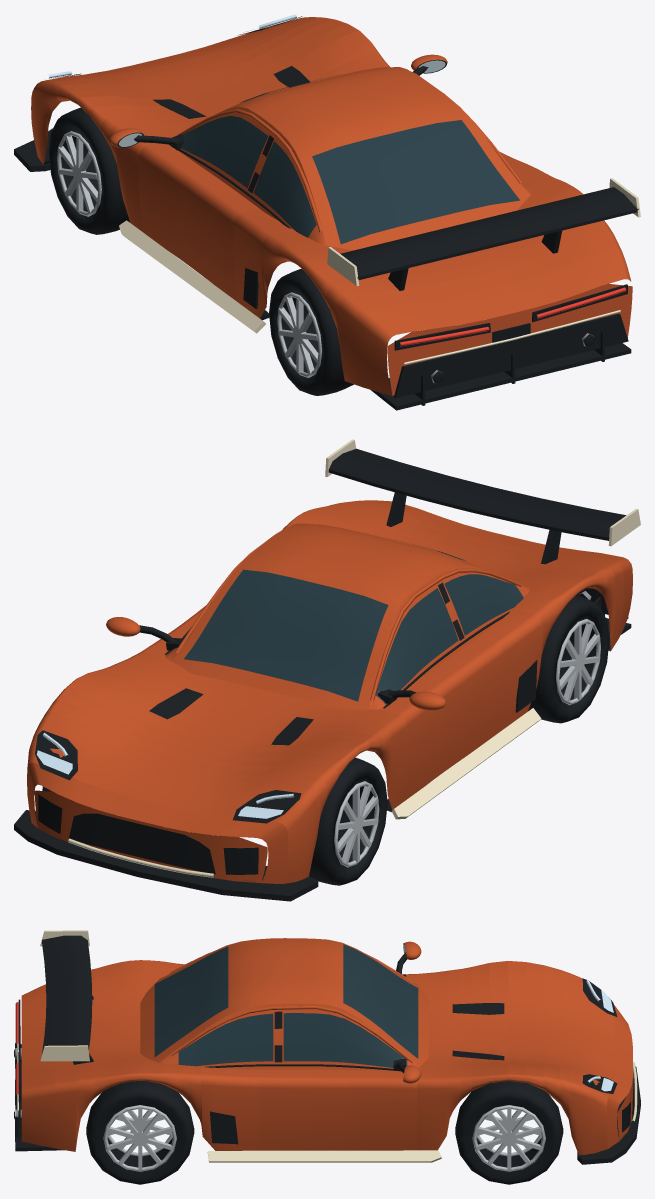
3 renders of one model, top to bottom at view 1: azimuth 30°, elevation 25°; view 2: azimuth 150°, elevation 25°; view 3: azimuth 270°, elevation 25°, orthographic. The views are drawn at different scales.
Visible parts, largest first — view 1: body_paint, body_carbon, body_glass, wheel_carbon (×2), wheel_rim (×2), body_accent, body_rearLights; view 2: body_paint, body_carbon, body_glass, wheel_carbon (×2), wheel_rim (×2), body_accent, body_lights; view 3: body_paint, body_glass, wheel_carbon (×2), body_carbon, wheel_rim (×2), body_accent, body_lights.
Boxes of the visible parts, x1,y1,x2,y2 form: body_paint: (31,17,632,395); body_carbon: (14,16,638,410); body_glass: (180,74,519,244); wheel_carbon (×2): (48,107,353,395); wheel_rim (×2): (57,131,321,377); body_accent: (119,178,640,364); body_rearLights: (400,287,626,346); body_paint: (27,500,632,884); body_carbon: (14,448,631,901); body_glass: (169,544,523,704); wheel_carbon (×2): (309,595,609,885); wheel_rim (×2): (334,619,600,867); body_accent: (68,439,640,877); body_lights: (36,733,293,818); body_paint: (21,938,632,1155); body_glass: (154,944,418,1067); wheel_carbon (×2): (86,1081,563,1184); body_carbon: (14,935,640,1164); wheel_rim (×2): (103,1105,545,1171); body_accent: (17,930,637,1162); body_lights: (586,980,613,1091).
Size of the model in its own units: 1.23 by 0.6898 by 2.38.
